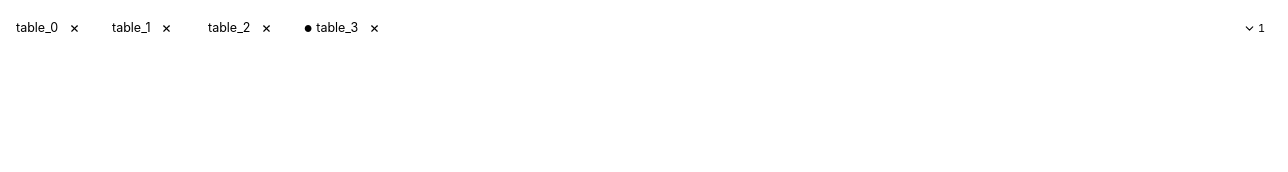
Test: TabStrip overflow — the menu › shows the dirty indicator on a dirty hidden tab
The image size is (1288, 172).
Press the mouse on the button titled "Hidden tabs" at (1254, 28), box [1232,12,1276,44]
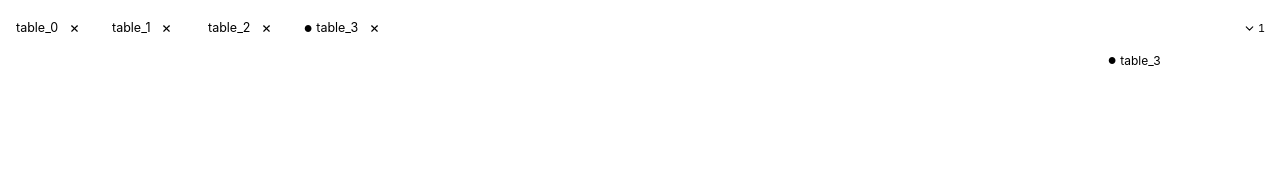
Result: the text named "Unsaved changes" is shown at [1108,56,1116,65]
